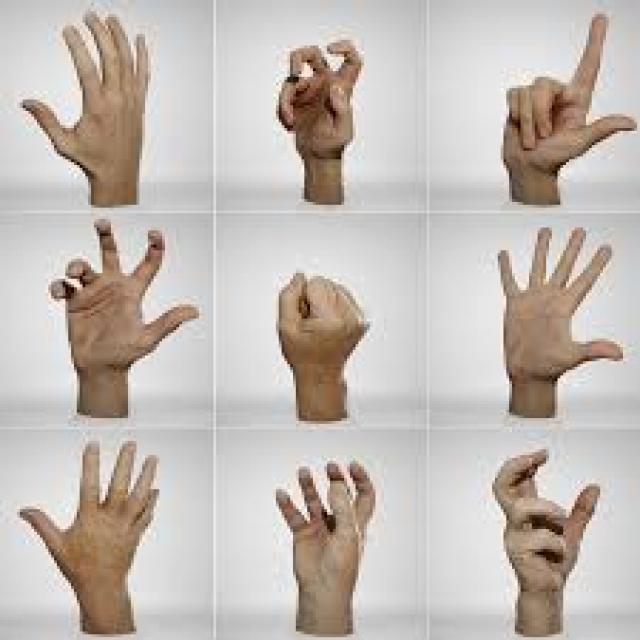Hand: (7, 437, 180, 616), (486, 220, 628, 425), (491, 10, 637, 209), (18, 5, 154, 212), (483, 443, 603, 640), (267, 31, 371, 209), (266, 456, 379, 609), (273, 264, 372, 374)
